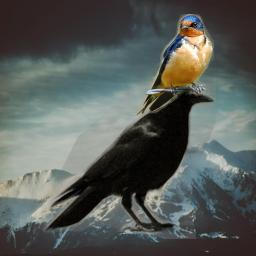Crow: (41, 78, 216, 239)
Swallow: (136, 14, 214, 116)
